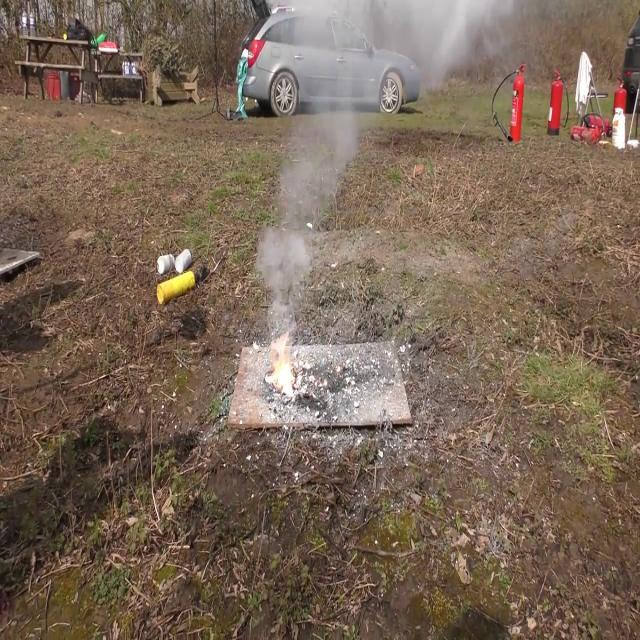Fire: (268, 338, 298, 394)
Smoke: (254, 20, 387, 321), (253, 106, 354, 324)
